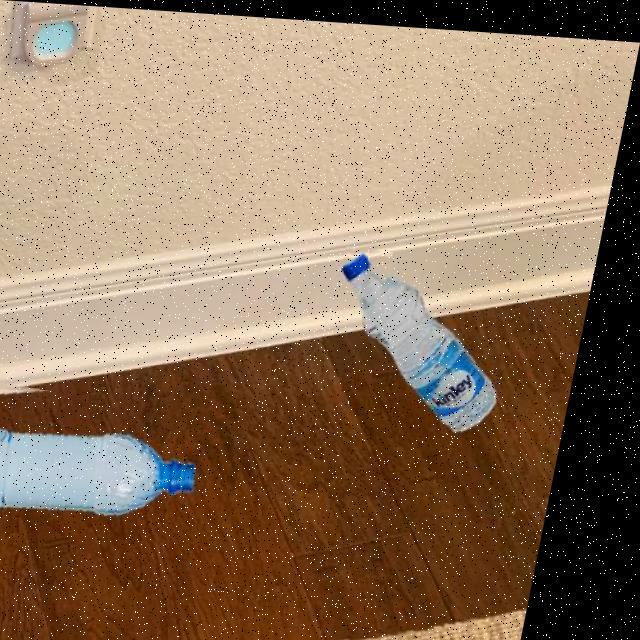litter: (0, 375, 270, 543), (346, 241, 403, 289)
